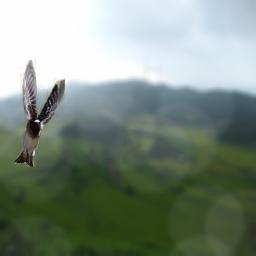Swallow: (14, 60, 65, 167)
